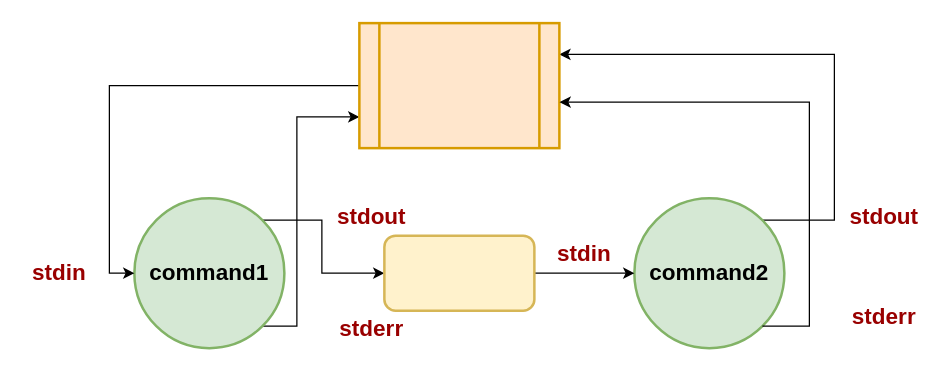
Image size: 943x370. Some labels were removed from this diagram. The shapes that lost their labels are listed below. From the top down, each one's centre as x and y in pixels, then its label:
At point (459, 85): "Terminal".
At point (458, 272): "Pipe".
